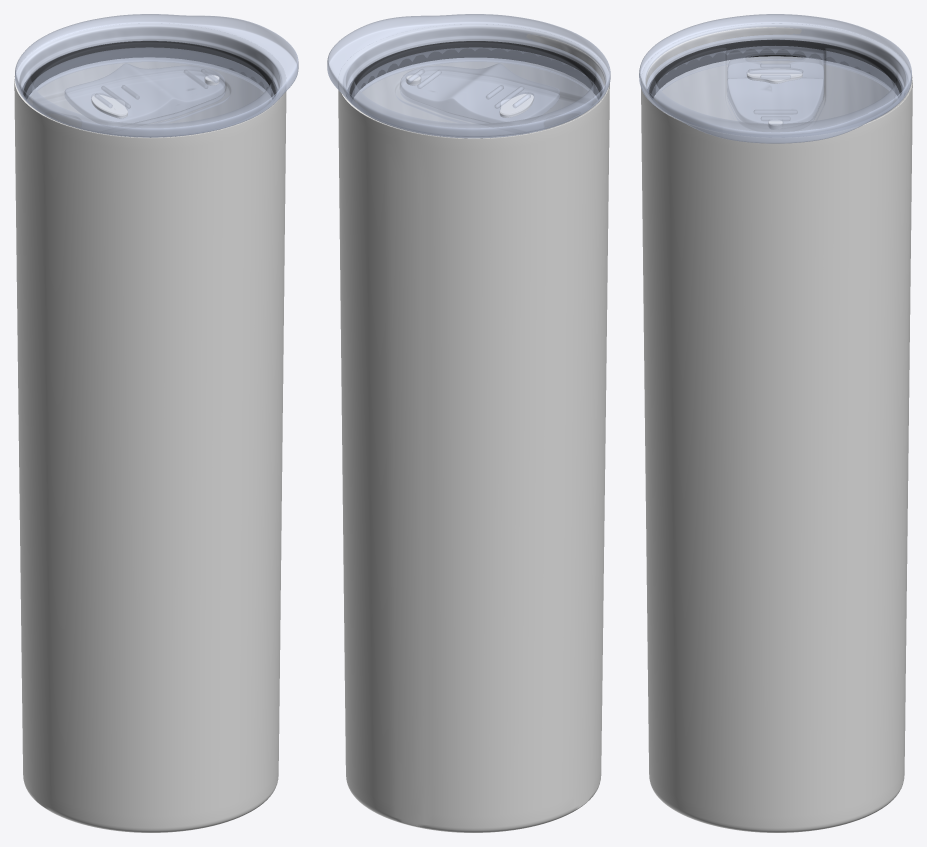
Rendered from 10236-onesize.glb.
The picture shows the model from 3 angles, left to right: view 1: azimuth 30°, elevation 25°; view 2: azimuth 150°, elevation 25°; view 3: azimuth 270°, elevation 25°; orthographic projection.
Visible parts, largest first — view 1: cover01; view 2: cover01; view 3: cover01.
Part boxes in pixels (x1,y1,x2,y2): cover01: (14, 14, 298, 832); cover01: (327, 14, 610, 832); cover01: (639, 14, 912, 832).
Bounding box in the file's own units: 1.83 × 5.01 × 1.74.
